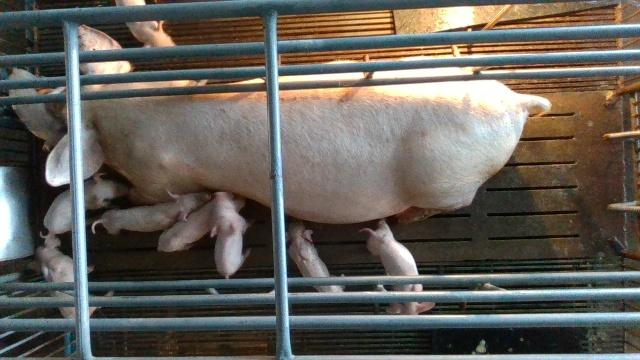piglet: (24, 232, 114, 319), (357, 220, 435, 316), (40, 173, 133, 238), (93, 189, 210, 234), (157, 196, 245, 252), (9, 68, 68, 150), (286, 218, 346, 293), (209, 192, 250, 279), (116, 0, 178, 46)
sow-sit: (44, 26, 551, 219)
